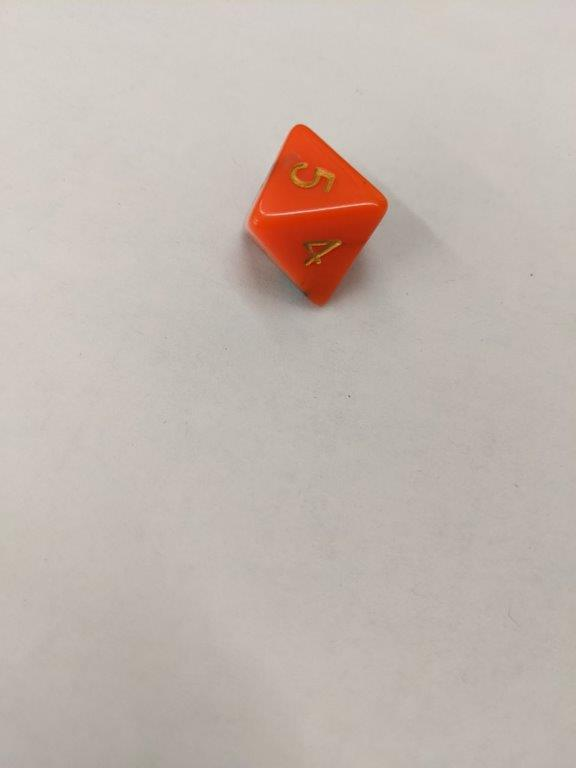d8-5: (244, 123, 389, 307)
